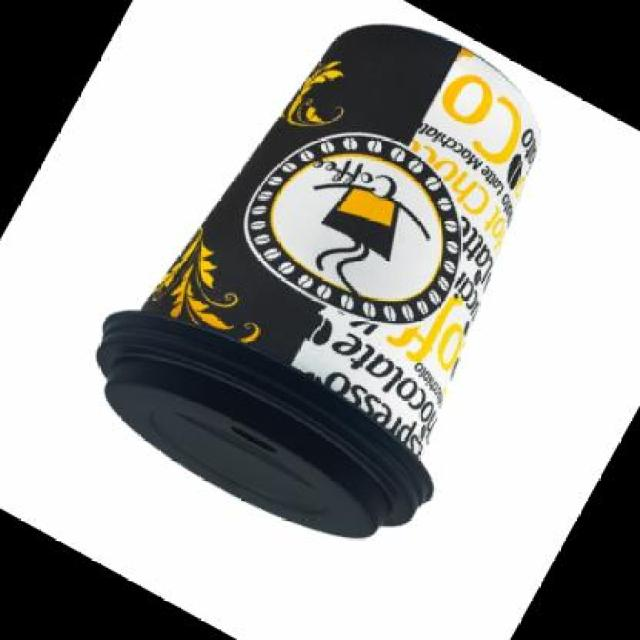non-biodegradable: (57, 0, 640, 603)
